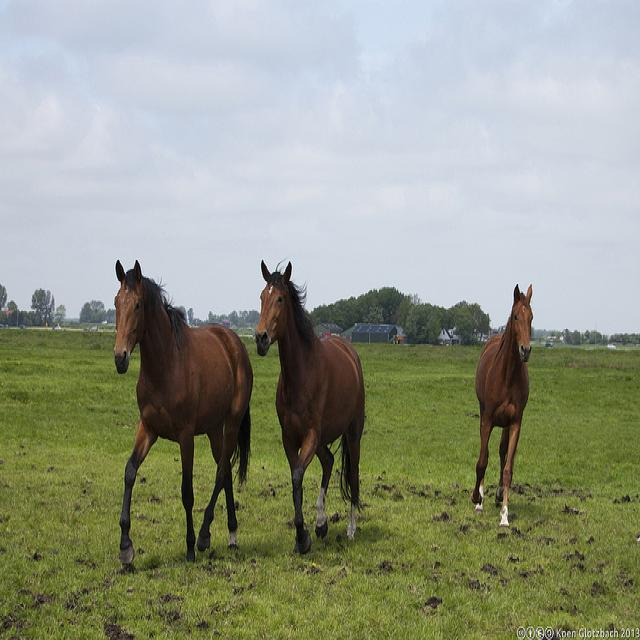horse: (114, 260, 252, 564), (255, 258, 363, 552), (475, 284, 534, 526)
